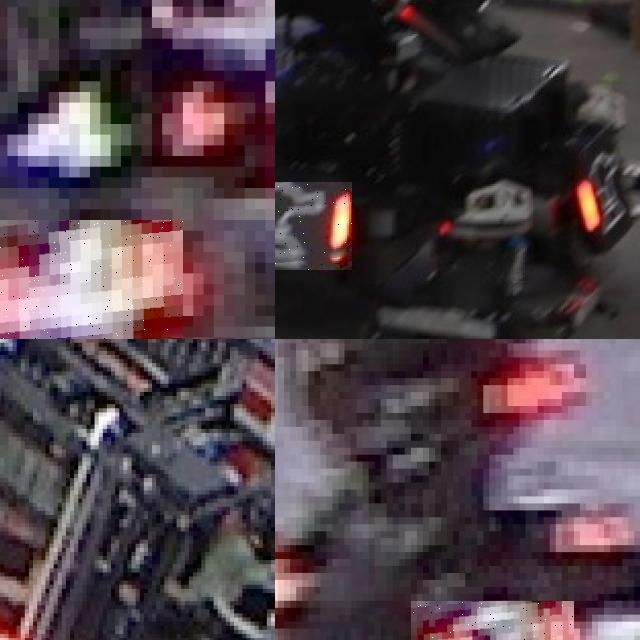R3: (411, 601, 574, 640)
R4: (0, 220, 183, 339)
Rs: (275, 182, 352, 270), (575, 139, 630, 237)
